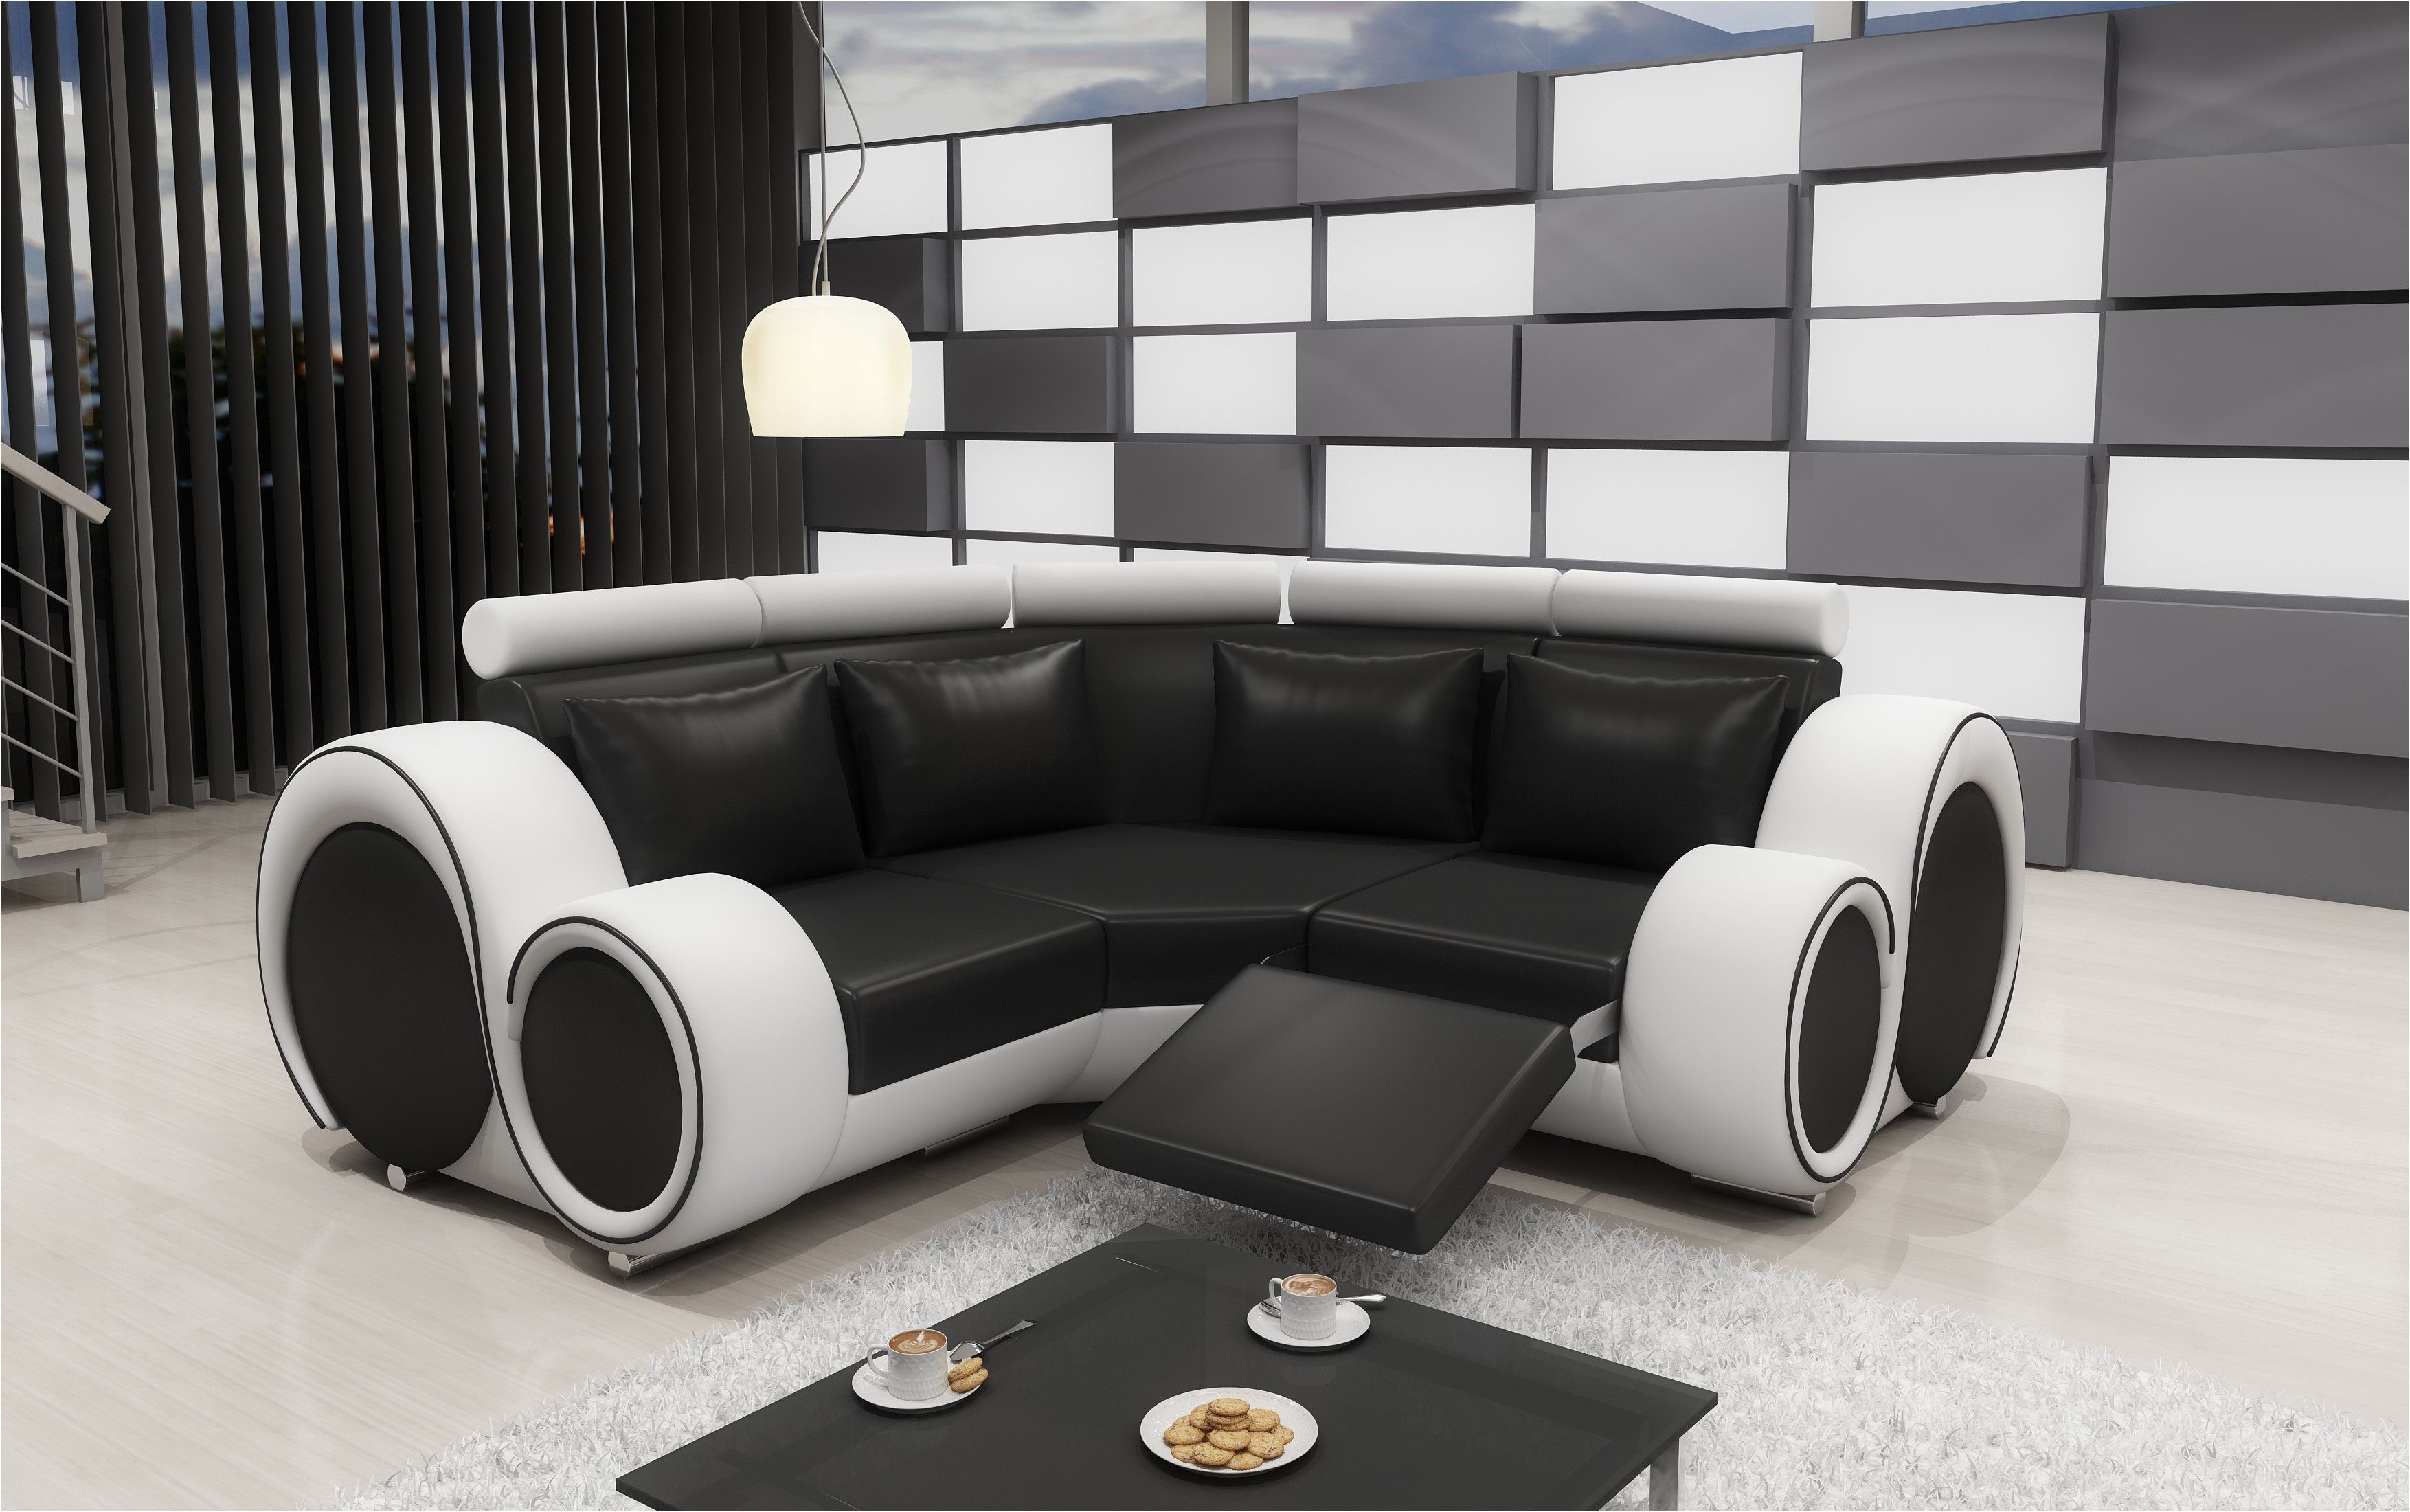sova: (216, 503, 2050, 1291)
